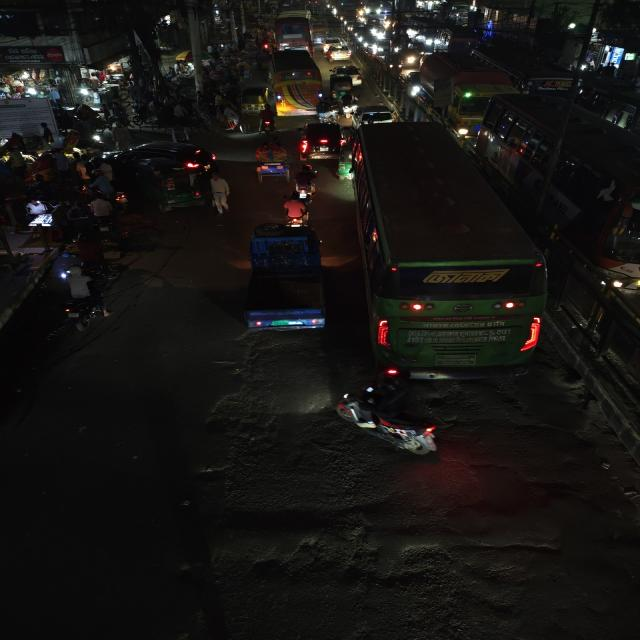bus: (356, 127, 547, 375), (510, 106, 640, 296), (271, 51, 317, 122), (275, 18, 313, 56)
car: (356, 103, 399, 125), (337, 63, 363, 82), (329, 44, 354, 61)
cng: (142, 160, 203, 220), (234, 84, 269, 118), (335, 150, 353, 185), (330, 73, 353, 100)
motorcycle: (317, 384, 475, 472), (52, 267, 122, 333), (289, 167, 327, 201), (281, 188, 313, 222), (258, 106, 280, 138)
pedestrian: (207, 174, 235, 217)
pickup_van: (236, 220, 333, 343)
rickshaw: (250, 143, 292, 181)
truck: (419, 60, 508, 136)
